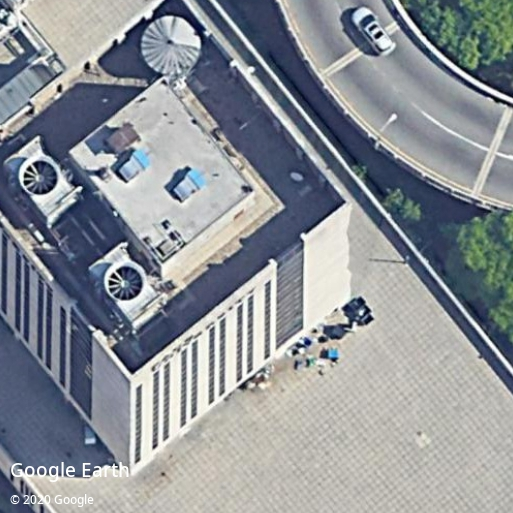Vent: (22, 159, 58, 196), (107, 265, 143, 301)
